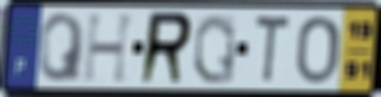H: (81, 11, 138, 85)
O: (294, 14, 342, 87)
Q: (37, 11, 87, 84), (191, 11, 238, 87)
R: (137, 10, 196, 87)
T: (252, 12, 292, 87)
